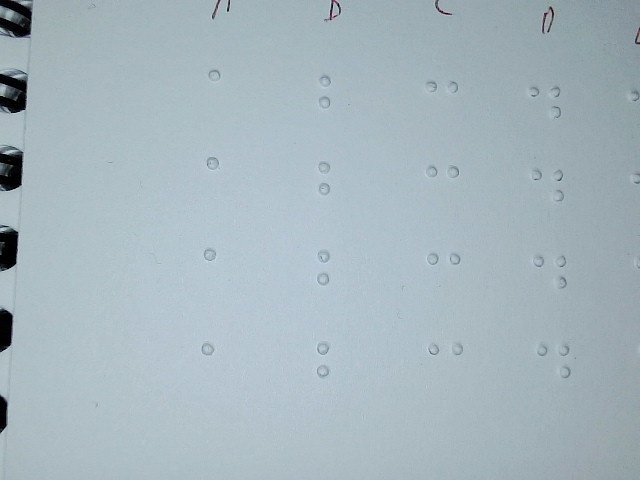A: (202, 61, 249, 130), (199, 146, 246, 215), (197, 239, 244, 308), (193, 333, 240, 402)
B: (311, 69, 355, 132), (311, 153, 355, 216), (310, 242, 354, 305), (309, 335, 353, 398)
C: (420, 71, 466, 138), (420, 157, 466, 224), (421, 244, 467, 311), (423, 333, 469, 400)
